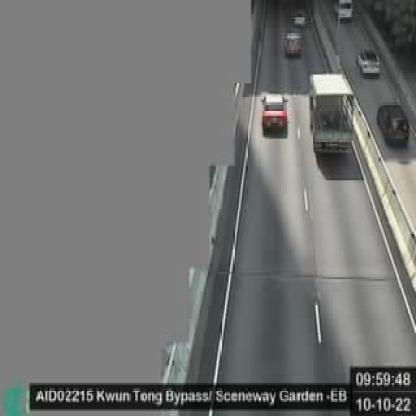Car: (378, 100, 412, 146), (262, 92, 288, 135), (359, 47, 382, 75), (286, 30, 303, 57), (335, 0, 353, 23), (293, 14, 307, 29)
Truck: (310, 72, 355, 158)
